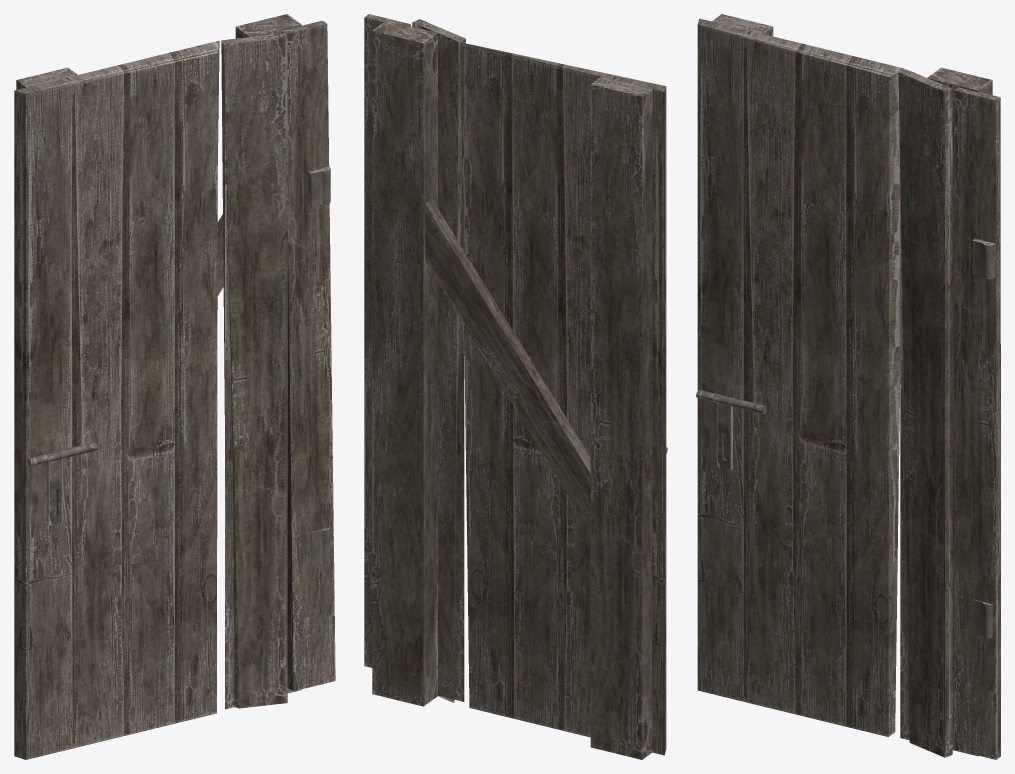
Rendered from SM_WoodenDoor01.FBX.
The picture shows the model from 3 angles, left to right: view 1: azimuth 30°, elevation 25°; view 2: azimuth 150°, elevation 25°; view 3: azimuth 330°, elevation 25°; orthographic projection.
Parts seen in each view (by area): view 1: SM_WoodenDoor01; view 2: SM_WoodenDoor01; view 3: SM_WoodenDoor01.
Boxes of the visible parts, left/top/right/bottom form: SM_WoodenDoor01: left=14, top=14, right=335, bottom=759; SM_WoodenDoor01: left=364, top=14, right=667, bottom=759; SM_WoodenDoor01: left=696, top=14, right=1000, bottom=759.
Size of the model in its own units: 183 by 24.69 by 377.
